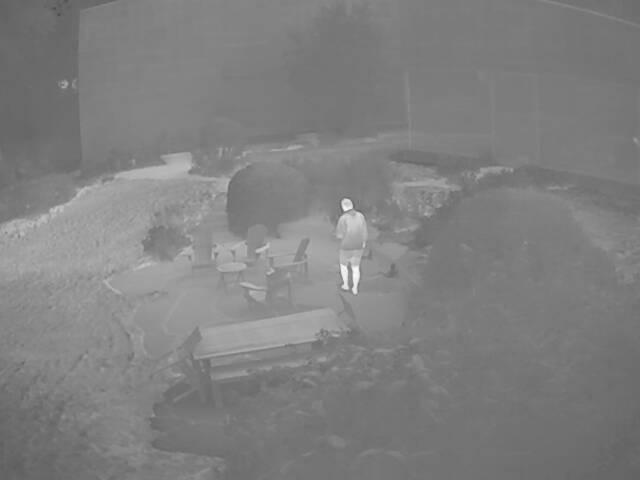person: (336, 197, 369, 293)
